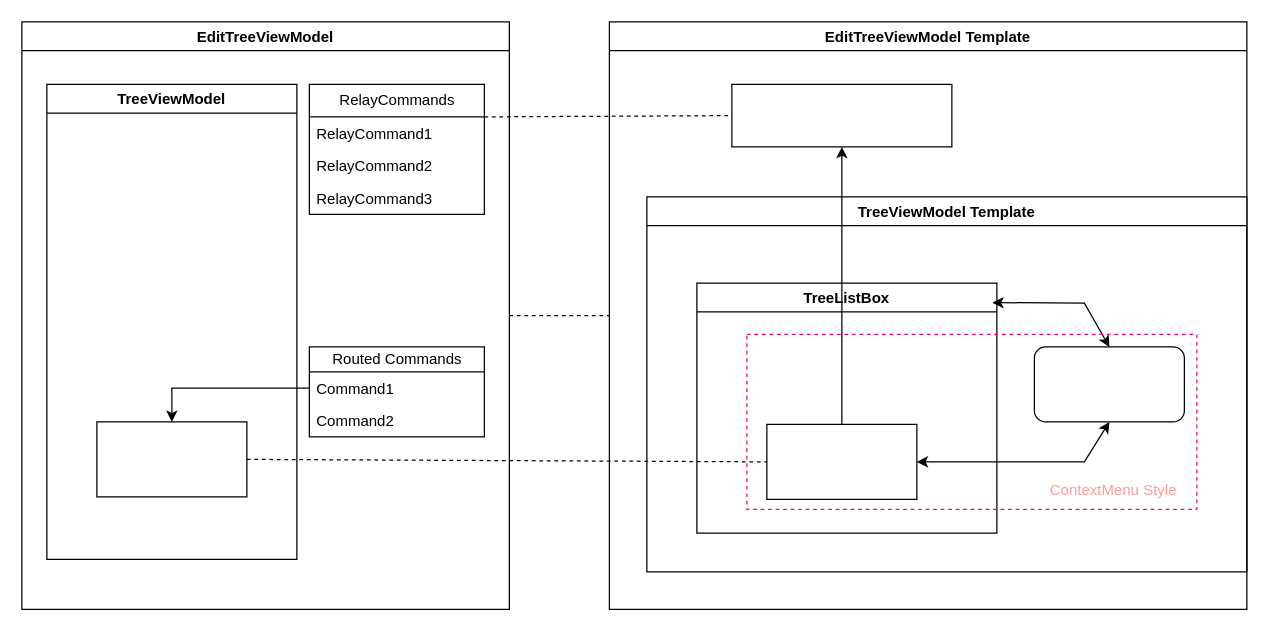
This 1269x631 diagram has some shape labels left out. The shapes that lost their labels are listed below. From the top down, each one's centre as x and y in pixels, then its label:
(x=841, y=115): RoutedCommandBindings
(x=1108, y=384): RefreshItemsSource attached property
(x=171, y=459): Commands
(x=841, y=461): ContextMenu
